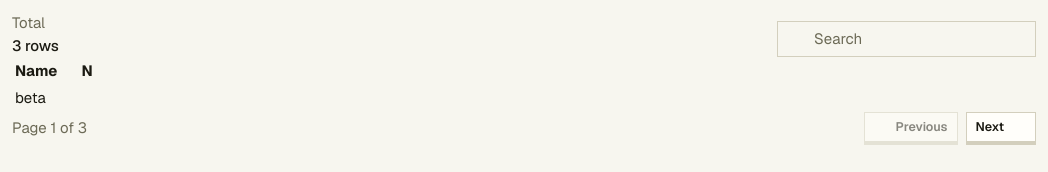
Scenario: table › search narrows the rows and the count, and goes back to page one
The width and height of the screenshot is (1048, 172).
Click the button "Next" at (1001, 127), box [966,112,1036,142]
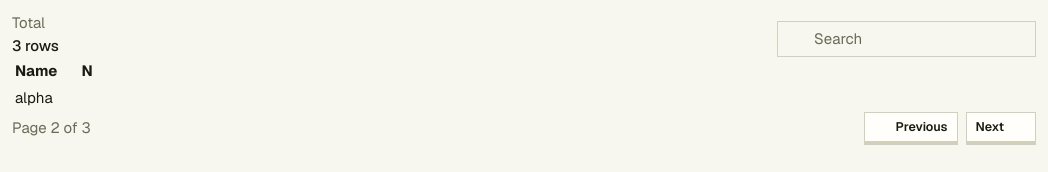
Type "GAM" into the search field named "Search rows" at (918, 39), box [812,27,1025,51]
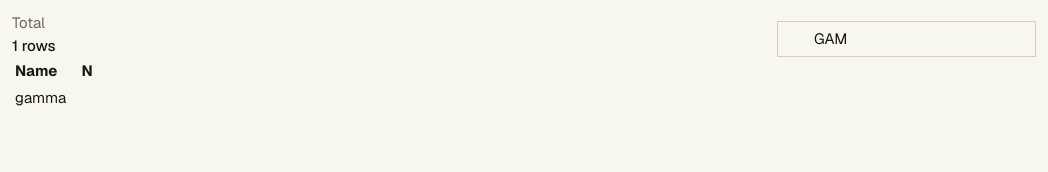
Check: the text "1 rows" is shown, box [12,34,56,57]
Check: the text "Page" is gone
